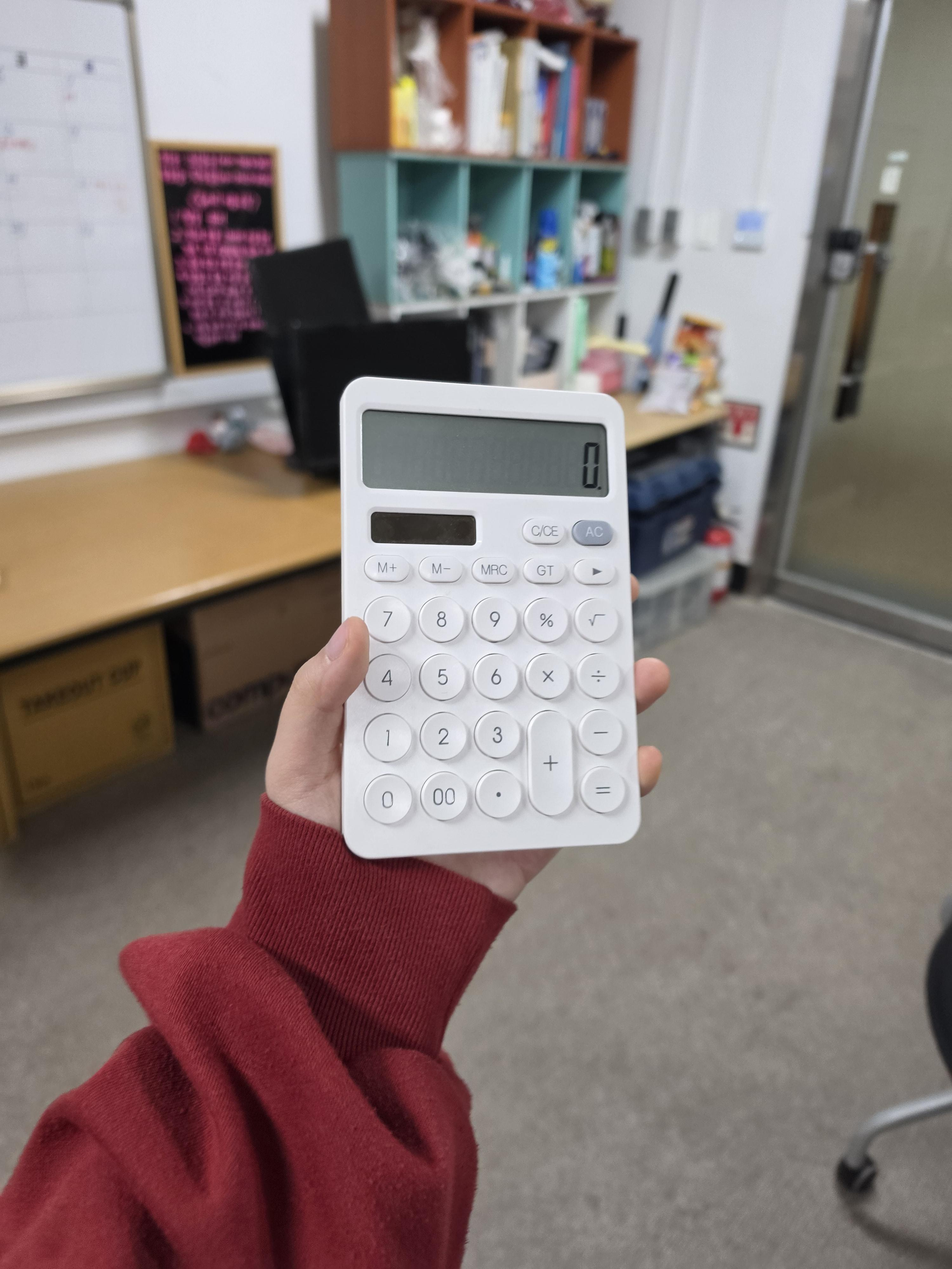calculator: (339, 376, 643, 859)
